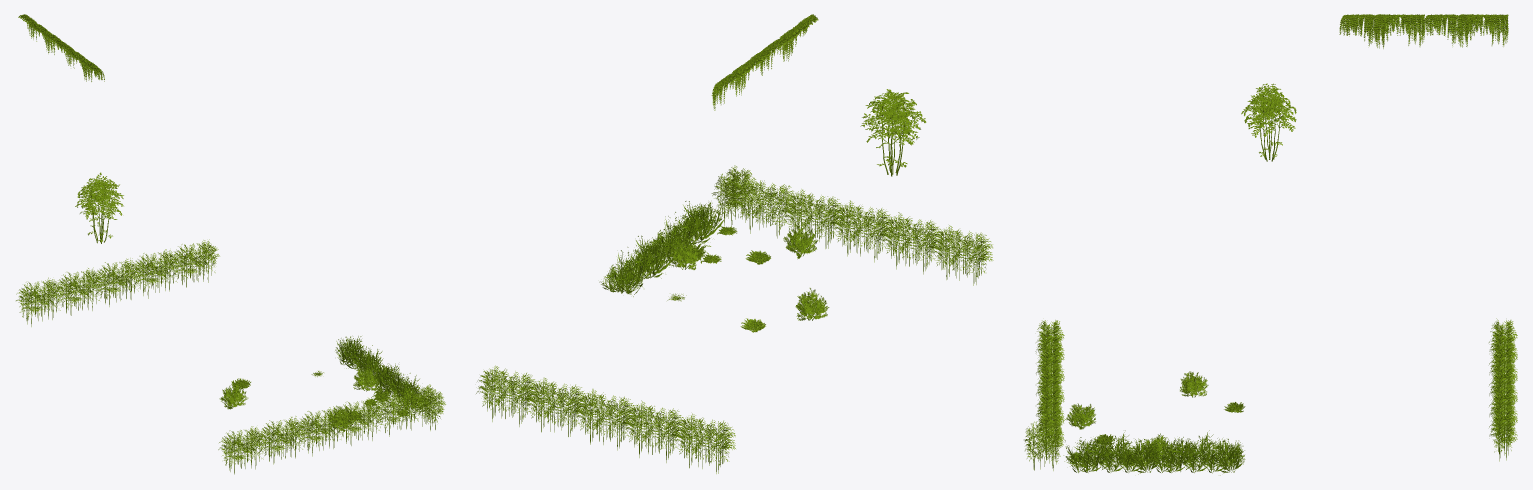
The model's file is all_plants.gltf.
3 renders of one model, left to right at view 1: azimuth 30°, elevation 25°; view 2: azimuth 150°, elevation 25°; view 3: azimuth 270°, elevation 25°, orthographic. The views are drawn at different scales.
Parts seen in each view (by area): view 1: GrowFX002, PLANTS009, PLANTS004, PLANTS006, PLANTS, PLANTS003, PLANTS002, PLANTS008, PLANTS001, PLANTS005, PLANTS007, plant 036 (+4 smaller); view 2: GrowFX002, plant 036, PLANTS004, PLANTS002, PLANTS, PLANTS003, PLANTS005, PLANTS009, PLANTS008, plant 35, PLANTS006, PLANTS007 (+5 smaller); view 3: plant 35, plant 036, GrowFX002, PLANTS015, PLANTS005, PLANTS, PLANTS009, PLANTS008, PLANTS007, PLANTS006, PLANTS004, PLANTS002 (+8 smaller).
Part boxes in pixels (bbox=[...]): GrowFX002: bbox=[75, 172, 123, 243]; PLANTS009: bbox=[16, 277, 63, 326]; PLANTS004: bbox=[218, 426, 267, 474]; PLANTS006: bbox=[132, 249, 180, 298]; PLANTS: bbox=[374, 387, 422, 436]; PLANTS003: bbox=[259, 416, 306, 464]; PLANTS002: bbox=[297, 406, 344, 456]; PLANTS008: bbox=[55, 267, 103, 315]; PLANTS001: bbox=[335, 398, 383, 445]; PLANTS005: bbox=[171, 239, 219, 287]; PLANTS007: bbox=[94, 258, 142, 306]; plant 036: bbox=[335, 336, 392, 384]; GrowFX002: bbox=[860, 89, 926, 176]; plant 036: bbox=[599, 234, 677, 296]; PLANTS004: bbox=[931, 225, 993, 285]; PLANTS002: bbox=[832, 200, 894, 262]; PLANTS: bbox=[733, 177, 795, 238]; PLANTS003: bbox=[881, 212, 941, 274]; PLANTS005: bbox=[476, 365, 538, 426]; PLANTS009: bbox=[673, 413, 735, 473]; PLANTS008: bbox=[623, 400, 685, 462]; plant 35: bbox=[652, 199, 725, 257]; PLANTS006: bbox=[526, 377, 586, 436]; PLANTS007: bbox=[574, 389, 636, 450]; plant 35: bbox=[1063, 430, 1161, 474]; plant 036: bbox=[1149, 430, 1245, 475]; GrowFX002: bbox=[1241, 83, 1296, 161]; PLANTS015: bbox=[1024, 421, 1063, 470]; PLANTS005: bbox=[1489, 404, 1517, 461]; PLANTS: bbox=[1036, 403, 1064, 459]; PLANTS009: bbox=[1489, 318, 1517, 363]; PLANTS008: bbox=[1489, 341, 1517, 384]; PLANTS007: bbox=[1489, 362, 1517, 405]; PLANTS006: bbox=[1489, 383, 1517, 430]; PLANTS004: bbox=[1035, 320, 1064, 366]; PLANTS002: bbox=[1036, 362, 1064, 414].
Bounding box in the file's own units: 7.52 × 8.36 × 10.78.
2 materials, 1 textured.
